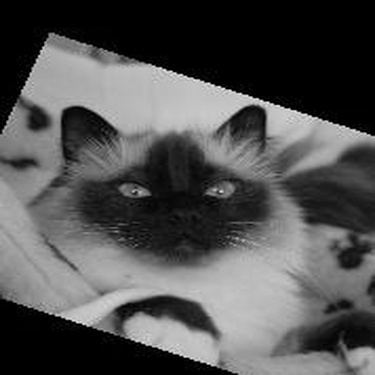cat: (19, 99, 315, 371)
